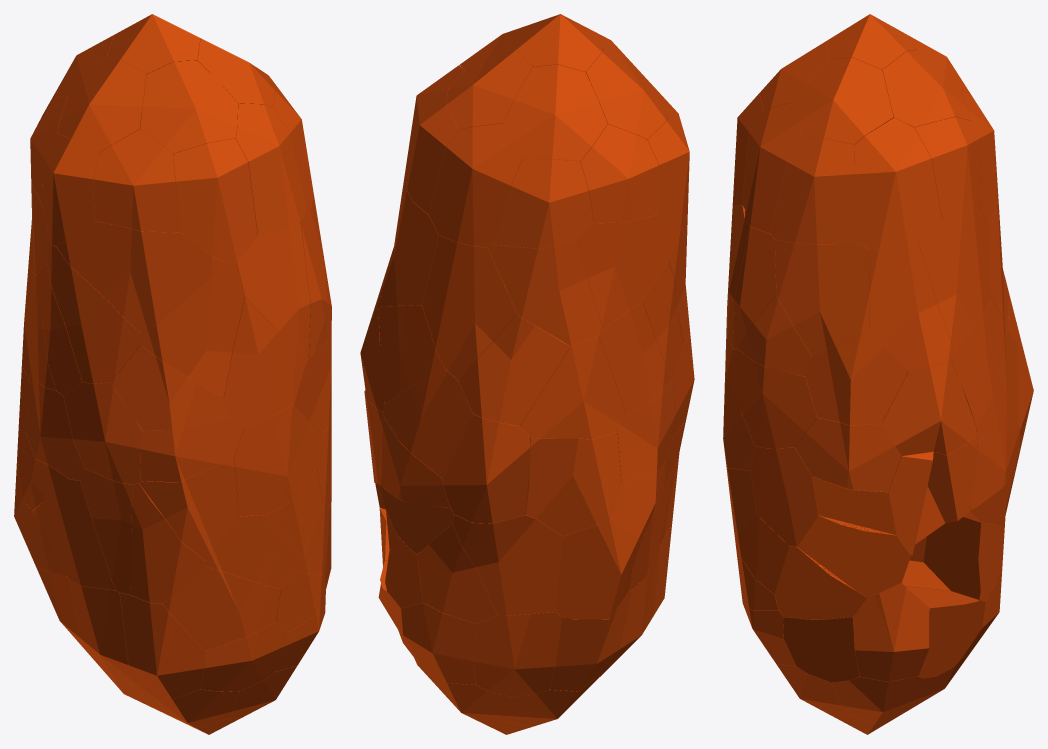
File: incubadora_rota.fbx
3 views of the same model, side by side, from view 1: azimuth 30°, elevation 25°; view 2: azimuth 150°, elevation 25°; view 3: azimuth 270°, elevation 25° (orthographic). The views are drawn at different scales.
Parts seen in each view (by area): view 1: Icosphere_cell.026, Icosphere_cell.058, Icosphere_cell.071, Icosphere_cell.052, Icosphere_cell.060, Icosphere_cell.006, Icosphere_cell.075, Icosphere_cell.024, Icosphere_cell.054, Icosphere_cell.080, Icosphere_cell.031, Icosphere_cell.061 (+36 smaller); view 2: Icosphere_cell.004, Icosphere_cell.046, Icosphere_cell.033, Icosphere_cell.035, Icosphere_cell.010, Icosphere_cell.018, Icosphere_cell.082, Icosphere_cell.039, Icosphere_cell.063, Icosphere_cell.028, Icosphere_cell.074, Icosphere_cell.038 (+33 smaller); view 3: Icosphere_cell.005, Icosphere_cell.030, Icosphere_cell.015, Icosphere_cell.081, Icosphere_cell.002, Icosphere_cell.079, Icosphere_cell.012, Icosphere_cell.066, Icosphere_cell.001, Icosphere_cell, Icosphere_cell.021, Icosphere_cell.050 (+34 smaller).
Part boxes in pixels (x1,y1,x2,y2): Icosphere_cell.026: (56, 221, 223, 333); Icosphere_cell.058: (173, 138, 257, 262); Icosphere_cell.071: (140, 262, 244, 397); Icosphere_cell.052: (93, 129, 180, 232); Icosphere_cell.060: (234, 405, 321, 516); Icosphere_cell.006: (140, 60, 237, 154); Icosphere_cell.075: (223, 297, 306, 427); Icosphere_cell.024: (47, 245, 141, 383); Icosphere_cell.054: (236, 222, 310, 361); Icosphere_cell.080: (162, 566, 280, 650); Icosphere_cell.031: (235, 103, 307, 236); Icosphere_cell.061: (110, 345, 232, 430); Icosphere_cell.004: (422, 235, 517, 380); Icosphere_cell.046: (428, 123, 523, 247); Icosphere_cell.033: (525, 432, 620, 536); Icosphere_cell.035: (452, 515, 562, 615); Icosphere_cell.010: (488, 241, 602, 345); Icosphere_cell.018: (443, 414, 530, 523); Icosphere_cell.082: (504, 64, 607, 161); Icosphere_cell.039: (459, 314, 570, 425); Icosphere_cell.063: (577, 214, 678, 329); Icosphere_cell.028: (493, 157, 593, 248); Icosphere_cell.074: (519, 337, 626, 439); Icosphere_cell.038: (473, 609, 561, 697); Icosphere_cell.005: (775, 239, 869, 355); Icosphere_cell.030: (854, 117, 942, 249); Icosphere_cell.015: (769, 136, 862, 244); Icosphere_cell.081: (869, 239, 953, 370); Icosphere_cell.002: (805, 331, 908, 425); Icosphere_cell.079: (917, 213, 990, 352); Icosphere_cell.012: (888, 436, 977, 555); Icosphere_cell.066: (793, 57, 893, 144); Icosphere_cell.001: (882, 360, 976, 456); Icosphere_cell: (853, 583, 929, 681); Icosphere_cell.021: (726, 349, 817, 448); Icosphere_cell.050: (795, 417, 901, 491).
Bounding box in the file's own units: 260 × 651 × 263.
